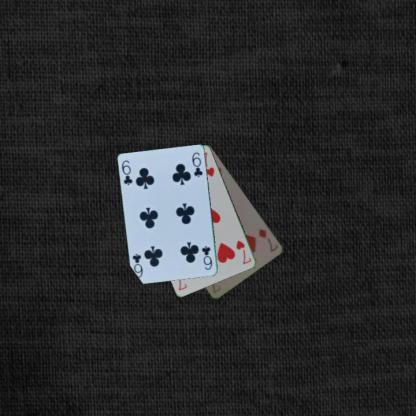6c: (199, 243, 214, 271), (119, 158, 134, 186)
7d: (257, 226, 280, 254)
7h: (234, 238, 252, 266)
